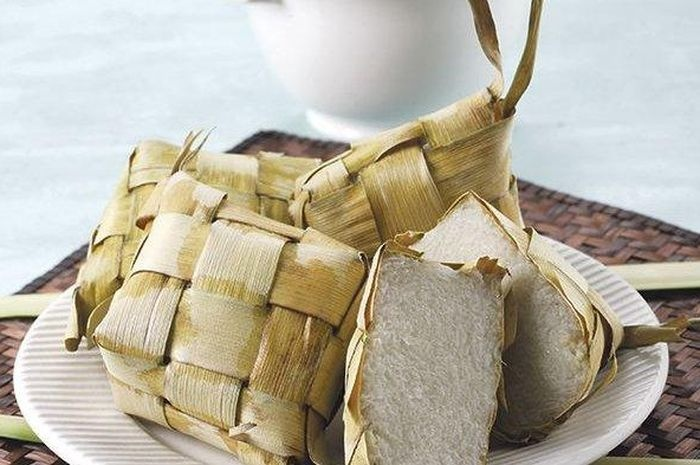ketupat: (90, 171, 370, 464)
